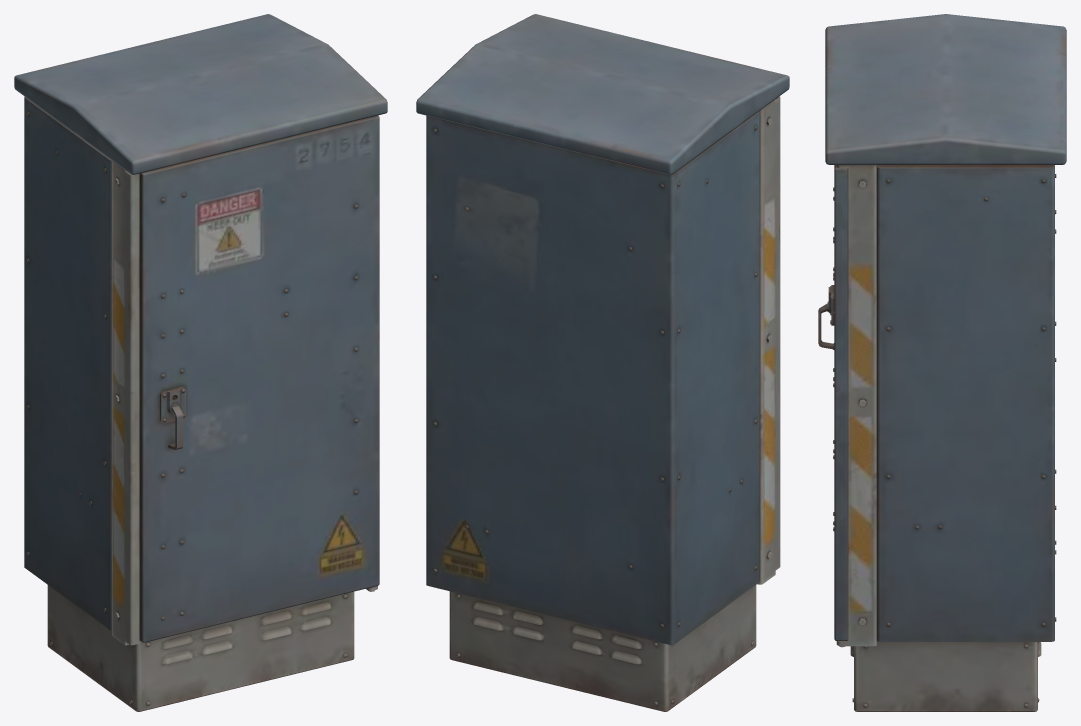
File: utility_box_01.glb
3 renders of one model, left to right at view 1: azimuth 30°, elevation 25°; view 2: azimuth 150°, elevation 25°; view 3: azimuth 270°, elevation 25°, orthographic.
Visible parts, largest first — view 1: utility_box_01; view 2: utility_box_01; view 3: utility_box_01.
Part boxes in pixels (x1=…): utility_box_01: x1=14, y1=14, x2=387, y2=711; utility_box_01: x1=416, y1=14, x2=789, y2=711; utility_box_01: x1=818, y1=14, x2=1066, y2=711.
Size of the model in its own units: 0.52 by 1.12 by 0.432.
Materials: 1 (1 with a texture image).
